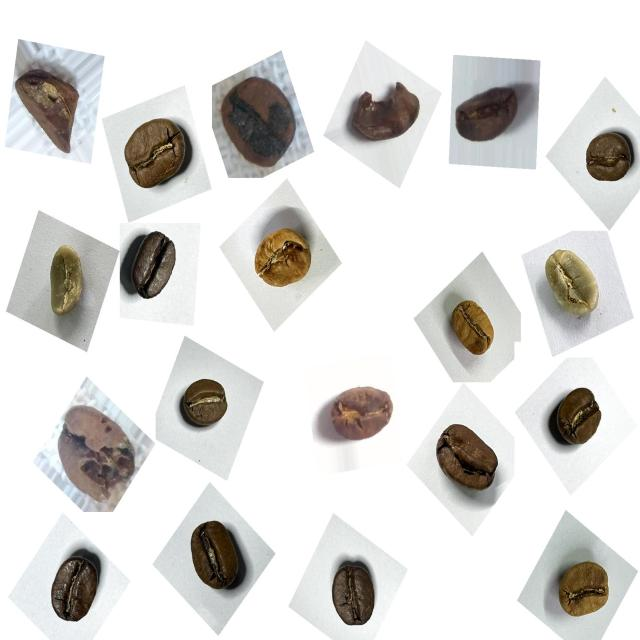bad: (48, 394, 140, 511), (214, 65, 306, 180), (10, 51, 90, 162), (343, 74, 427, 156), (452, 68, 529, 156), (324, 376, 399, 458)
dark: (40, 539, 112, 635), (118, 228, 190, 314), (319, 557, 386, 639)
green: (532, 239, 611, 332), (36, 237, 101, 331)
light: (245, 216, 322, 304), (442, 292, 505, 370)
medium: (115, 105, 199, 201), (426, 414, 507, 508), (178, 510, 252, 602), (549, 551, 621, 634), (544, 378, 611, 460), (173, 368, 238, 440), (577, 123, 638, 195)
